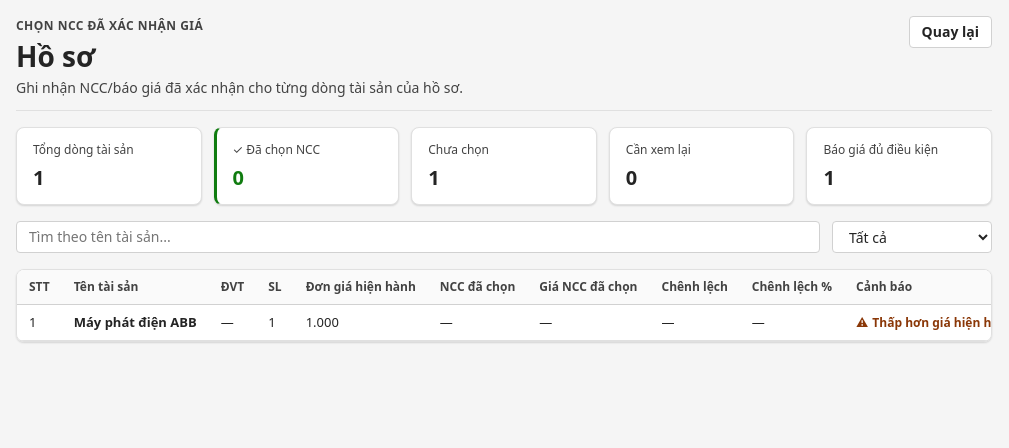
Test: NccSelectionPage › shows EMPTY_NO_RESULTS when search matches nothing
In the search field with placeholder "Tìm theo tên tài sản...": (418, 237) [16,221,820,253], type "khong-khop"
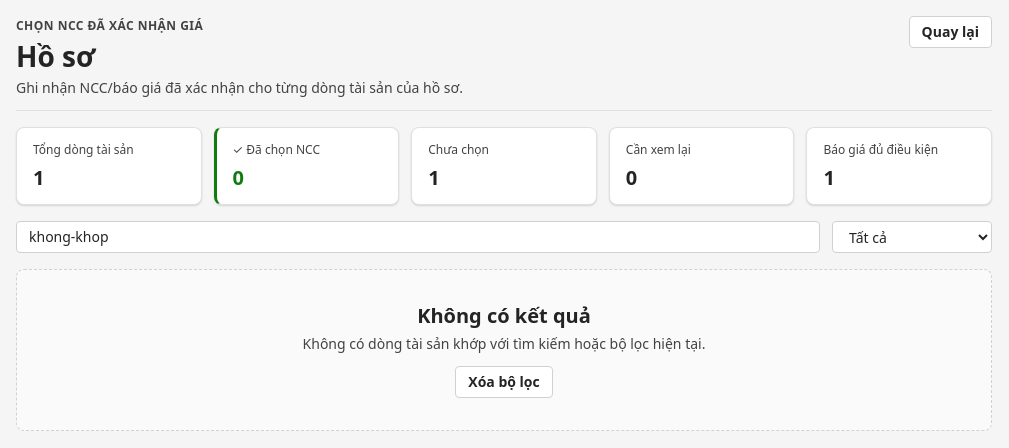
expect the element that starts with "Không có kết quả" is shown: met, box [16,269,992,431]
